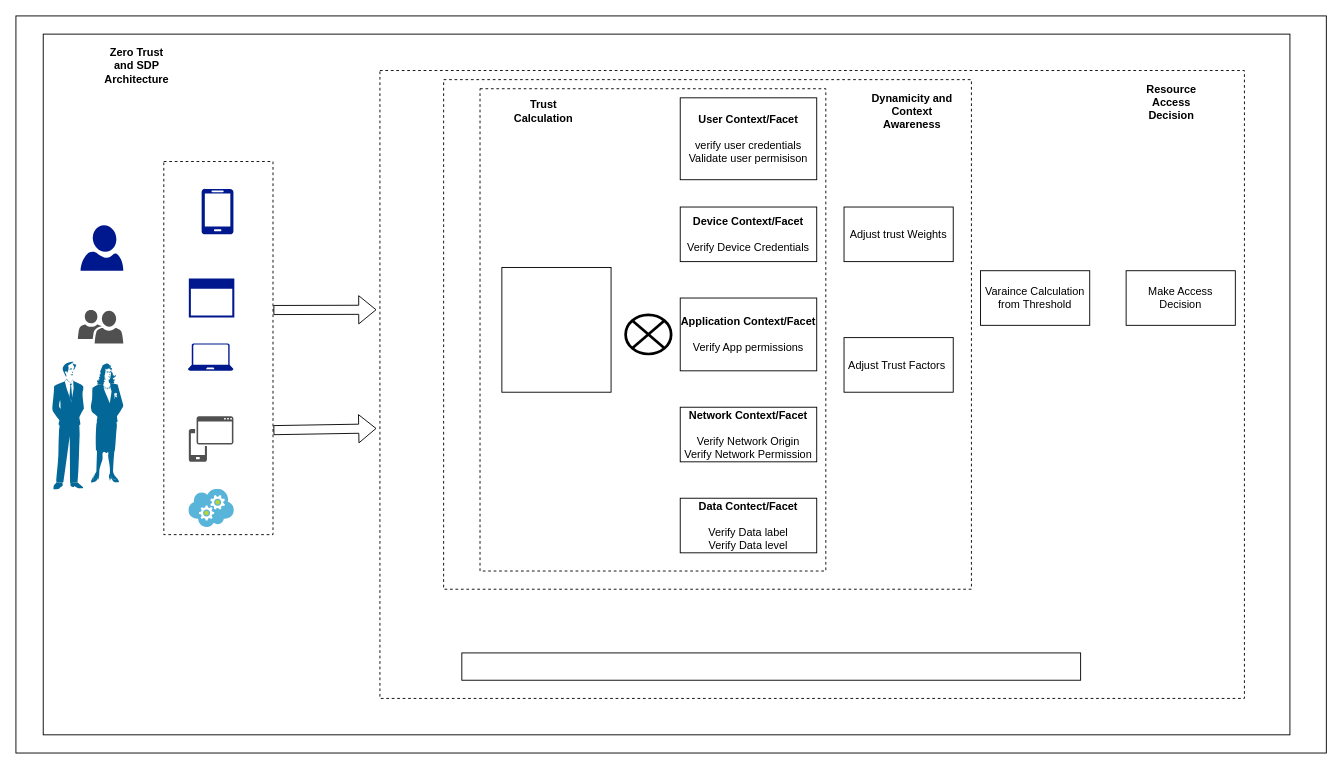
Some shapes in this 1342 by 769 pixel diagram are drawn without their labels. Here are the shapes that lost their labels. From the top down, the centre of each, then its label:
At (556,329): "Residual/Decay Risk Temporal context Lost over time based on Data Freshness".
At (771,666): "Monitor, Measure and Log Everything".
